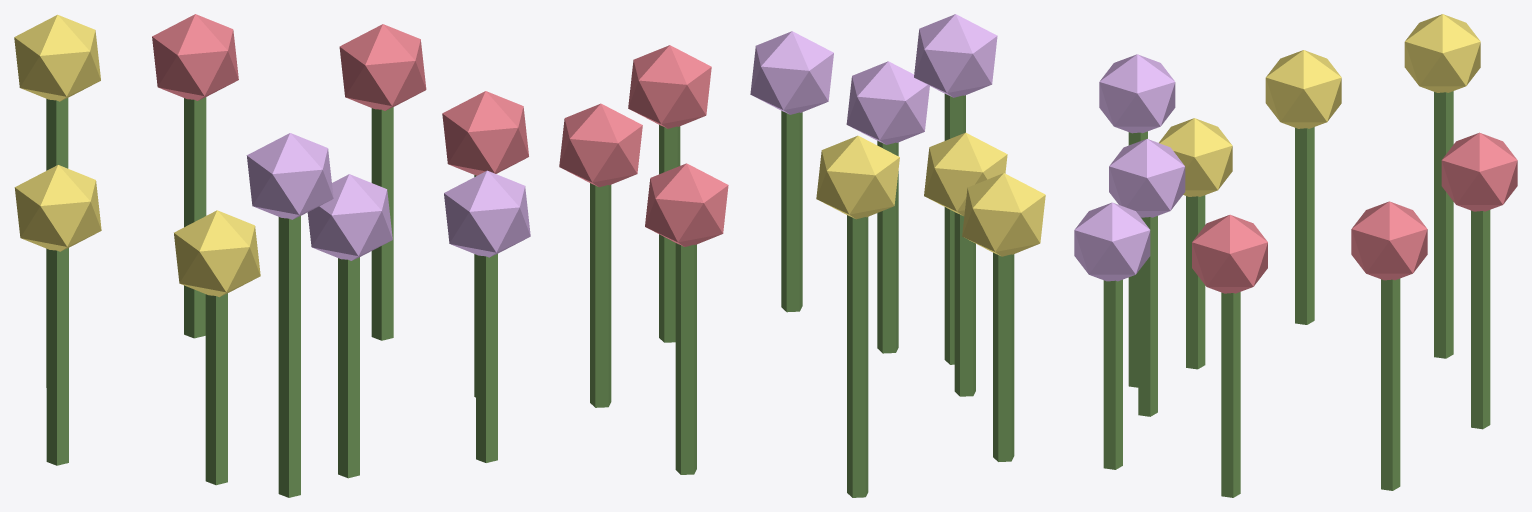
File: flowers.glb
3 renders of one model, left to right at view 1: azimuth 30°, elevation 25°; view 2: azimuth 150°, elevation 25°; view 3: azimuth 270°, elevation 25°, orthographic. The views are drawn at different scales.
Parts seen in each view (by area): view 1: Cylinder.006, Icosphere.005, Icosphere.001, Icosphere.004, Icosphere.002, Icosphere.006, Icosphere.008, Icosphere.003, Icosphere, Icosphere.007, Cylinder.004, Cylinder.007 (+5 smaller); view 2: Cylinder.003, Icosphere.003, Icosphere.002, Icosphere.001, Icosphere, Icosphere.004, Icosphere.006, Icosphere.008, Icosphere.007, Cylinder.002, Cylinder.001, Cylinder.004 (+6 smaller); view 3: Cylinder.003, Icosphere.002, Icosphere.003, Icosphere.001, Icosphere.006, Icosphere.008, Icosphere.004, Icosphere, Icosphere.007, Cylinder.002, Cylinder.001, Cylinder (+6 smaller).
Boxes of the visible parts, x1=… form: Cylinder.006: x1=278, y1=216, x2=300, y2=497; Icosphere.005: x1=174, y1=210, x2=260, y2=297; Icosphere.001: x1=339, y1=24, x2=426, y2=110; Icosphere.004: x1=14, y1=165, x2=101, y2=251; Icosphere.002: x1=152, y1=14, x2=238, y2=100; Icosphere.006: x1=246, y1=133, x2=333, y2=219; Icosphere.008: x1=444, y1=170, x2=530, y2=257; Icosphere.003: x1=14, y1=14, x2=100, y2=101; Icosphere: x1=442, y1=91, x2=528, y2=175; Icosphere.007: x1=307, y1=174, x2=392, y2=260; Cylinder.004: x1=46, y1=248, x2=68, y2=465; Cylinder.007: x1=338, y1=257, x2=359, y2=478; Cylinder.003: x1=847, y1=215, x2=868, y2=497; Icosphere.003: x1=816, y1=135, x2=899, y2=219; Icosphere.002: x1=645, y1=163, x2=728, y2=246; Icosphere.001: x1=559, y1=103, x2=642, y2=187; Icosphere: x1=628, y1=45, x2=711, y2=128; Icosphere.004: x1=962, y1=173, x2=1045, y2=256; Icosphere.006: x1=914, y1=14, x2=997, y2=97; Icosphere.008: x1=750, y1=31, x2=833, y2=114; Icosphere.007: x1=846, y1=61, x2=929, y2=144; Cylinder.002: x1=675, y1=243, x2=696, y2=474; Cylinder.001: x1=590, y1=183, x2=611, y2=407; Cylinder.004: x1=993, y1=252, x2=1014, y2=461; Cylinder.003: x1=1434, y1=91, x2=1453, y2=358; Icosphere.002: x1=1441, y1=132, x2=1517, y2=211; Icosphere.003: x1=1404, y1=14, x2=1480, y2=92; Icosphere.001: x1=1351, y1=201, x2=1427, y2=280; Icosphere.006: x1=1099, y1=54, x2=1175, y2=133; Icosphere.008: x1=1074, y1=202, x2=1150, y2=281; Icosphere.004: x1=1265, y1=50, x2=1341, y2=128; Icosphere: x1=1192, y1=214, x2=1267, y2=293; Icosphere.007: x1=1109, y1=139, x2=1185, y2=217; Cylinder.002: x1=1471, y1=210, x2=1490, y2=429; Cylinder.001: x1=1381, y1=278, x2=1400, y2=490; Cylinder: x1=1221, y1=292, x2=1240, y2=497.
Bounding box in the file's own units: 0.5469 × 0.4202 × 0.4958.
